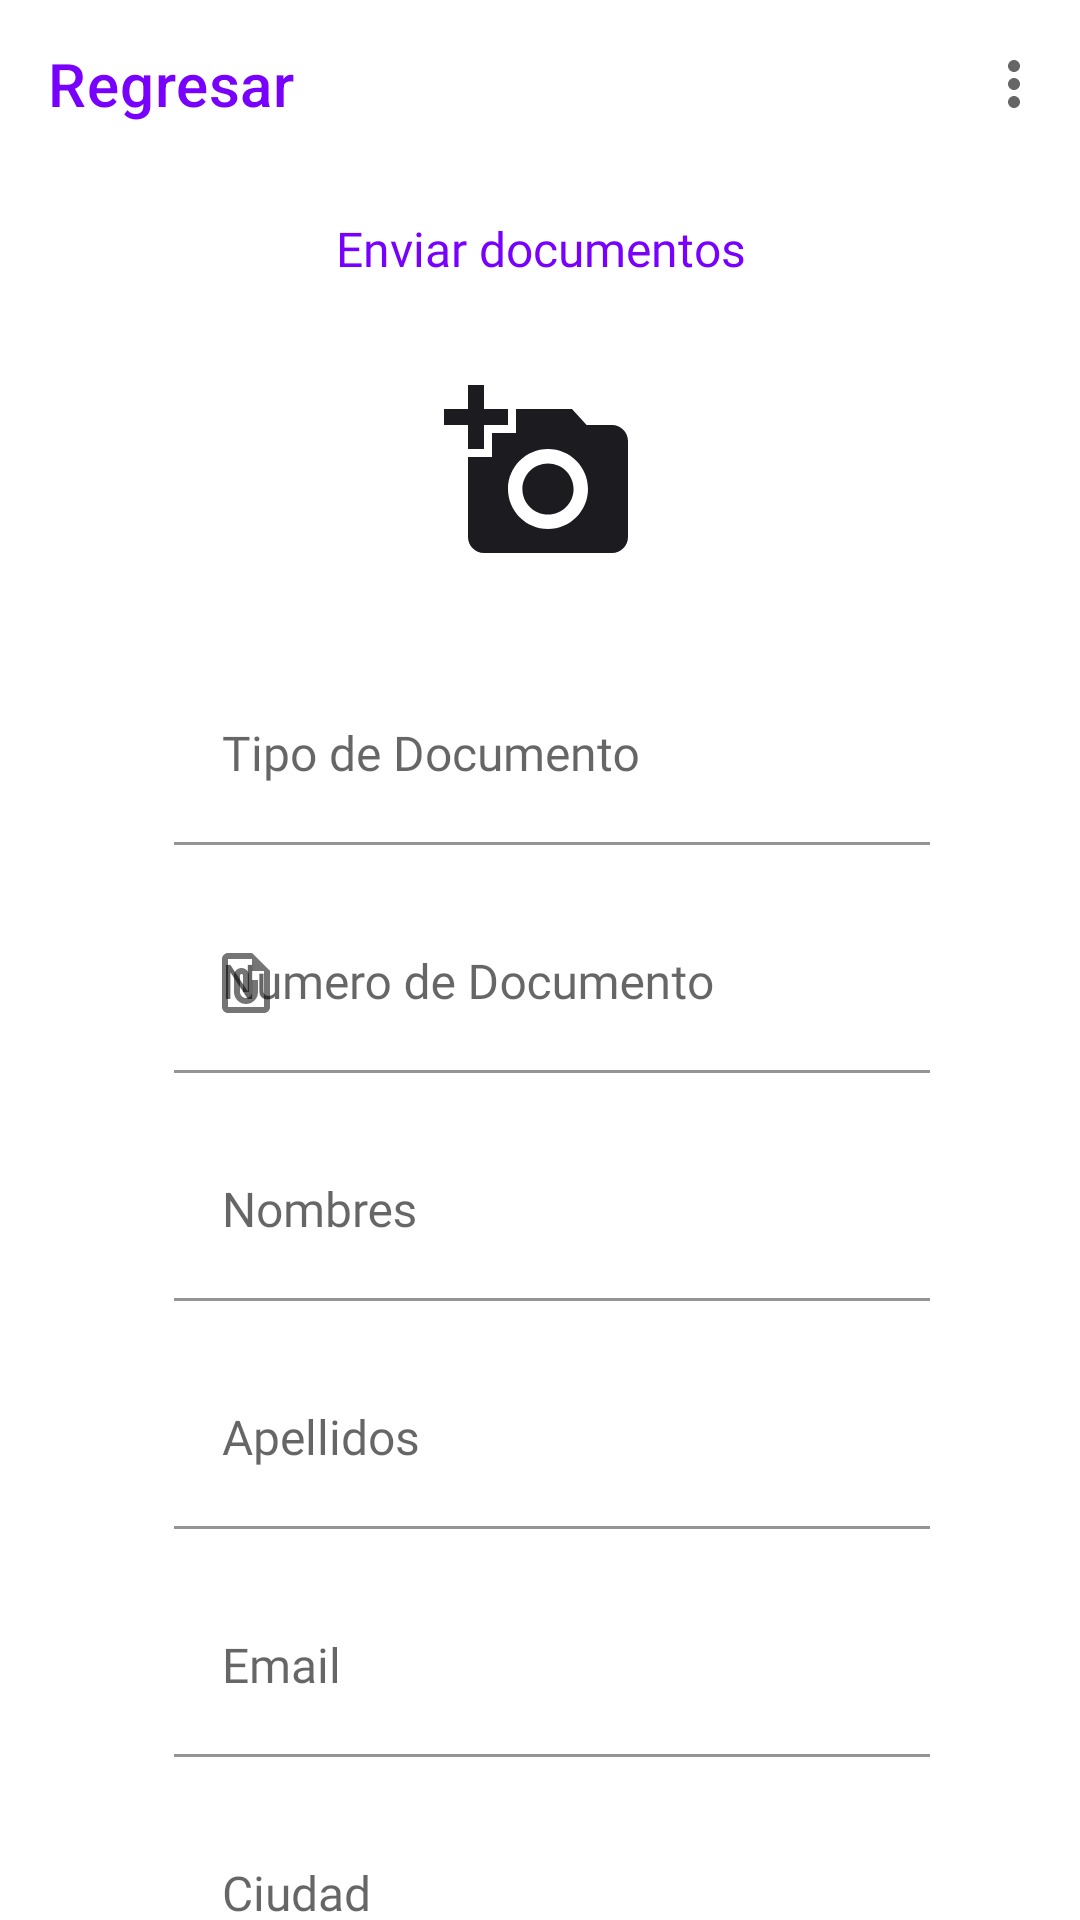

Named icons in this screenshot (1080x1920) and their centers, (x,y):
add photo icon: (536,469)
